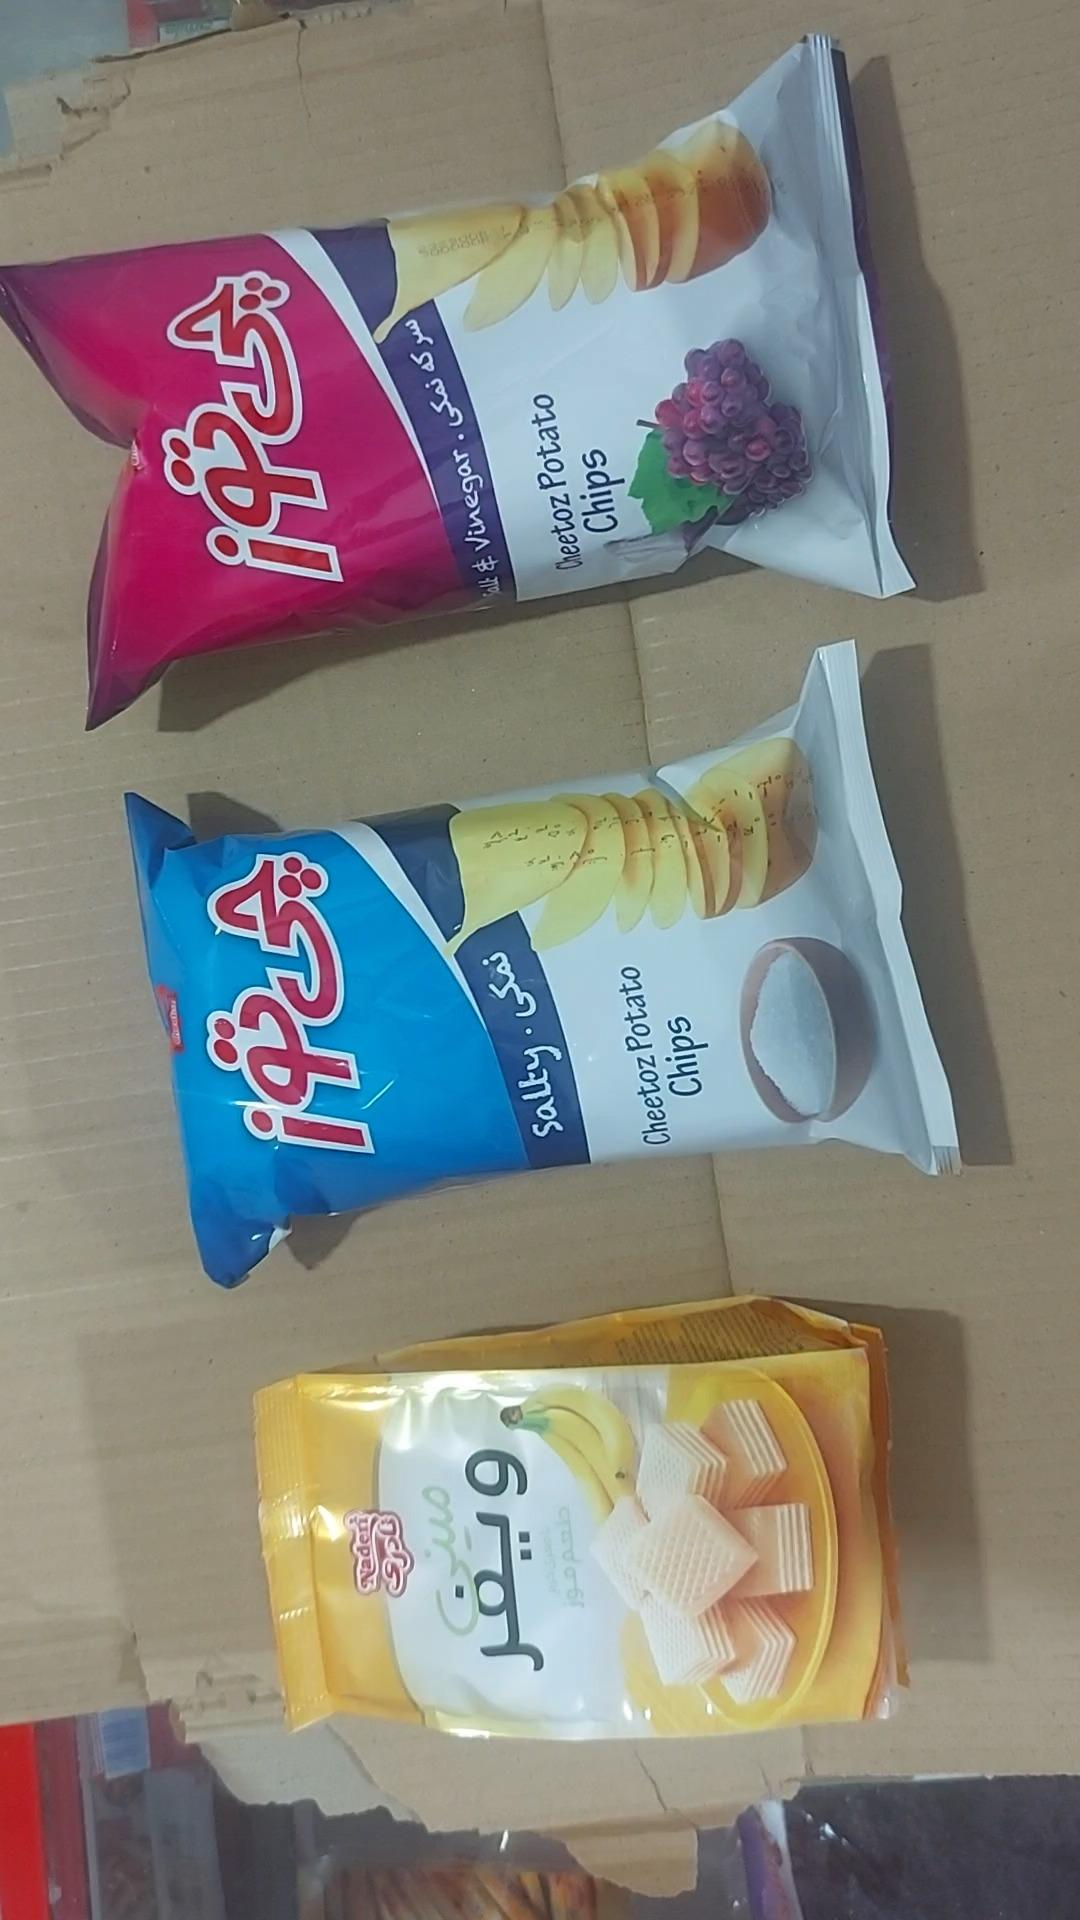Cheetoz salty chips: (120, 641, 961, 1292)
Cheetoz vinegar chips: (0, 34, 916, 729)
Naderi mini wafer: (252, 1296, 913, 1745)
